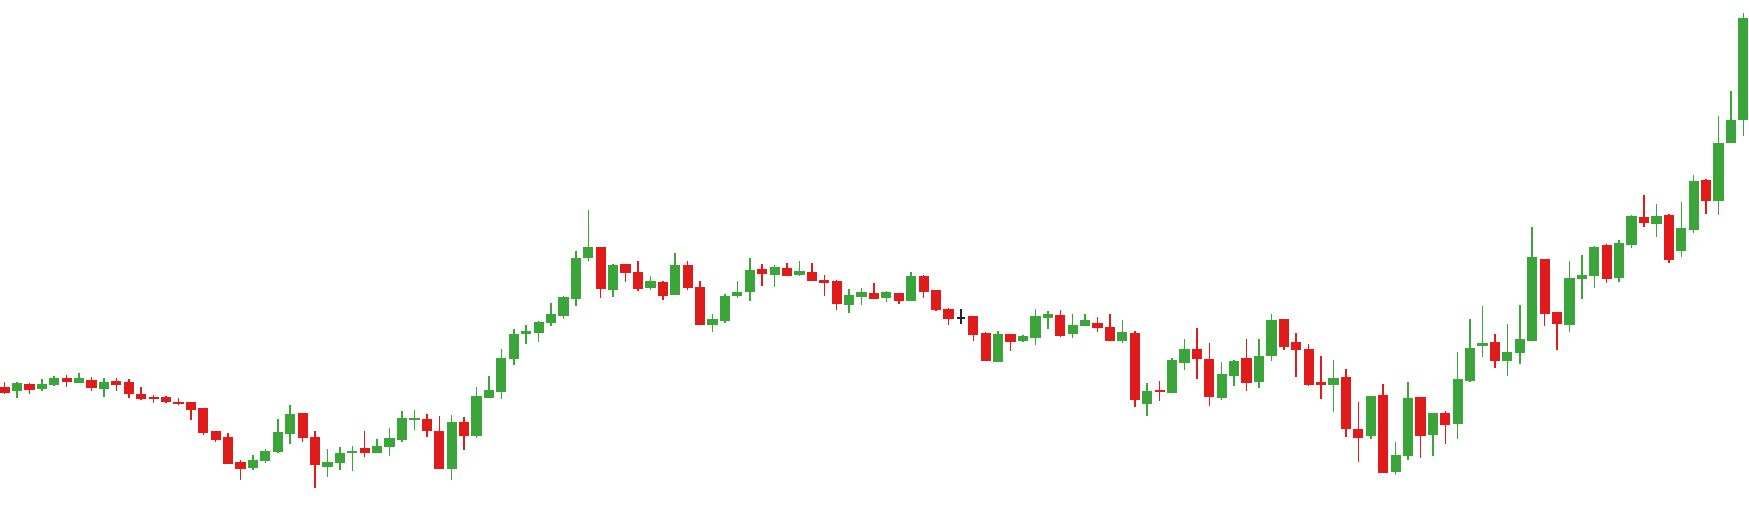buy: (236, 435, 335, 491)
sell: (1178, 315, 1292, 373)
